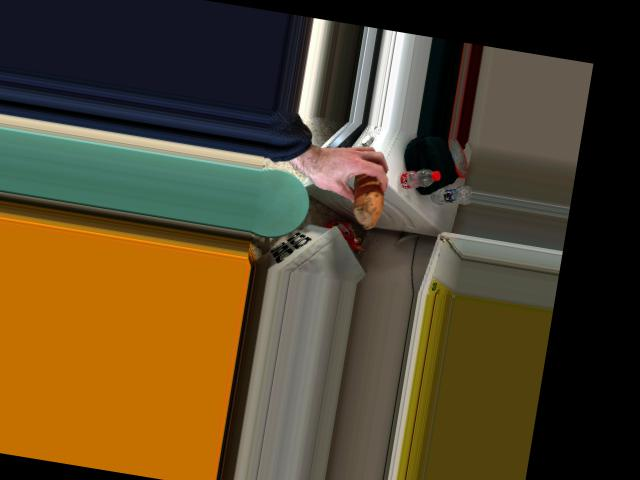sweet_potato: (334, 157, 384, 214)
